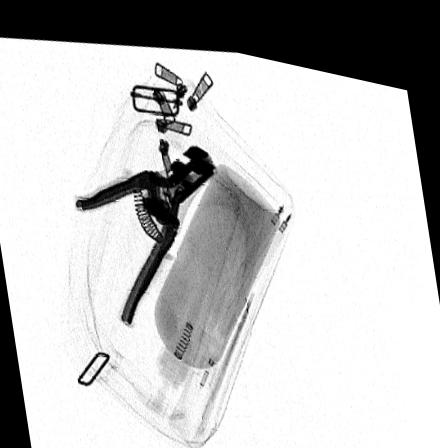Pliers: (76, 134, 216, 317)
